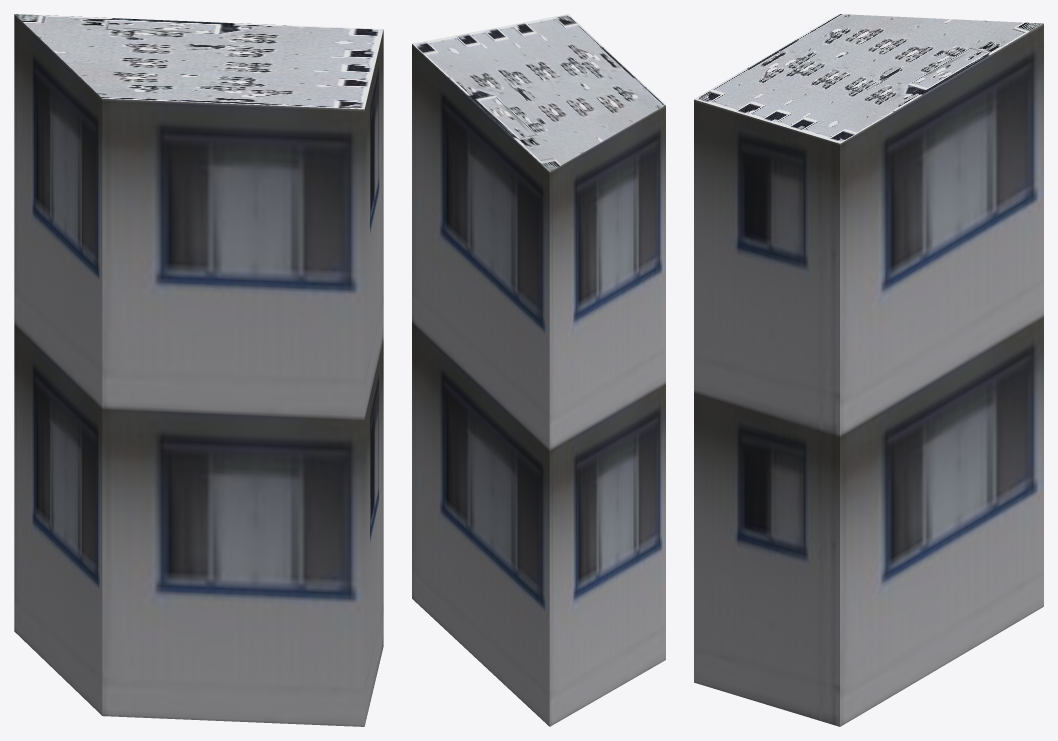
Rendered from ResTex__1930.fbx.
3 renders of one model, left to right at view 1: azimuth 30°, elevation 25°; view 2: azimuth 150°, elevation 25°; view 3: azimuth 270°, elevation 25°, orthographic. The views are drawn at different scales.
Parts seen in each view (by area): view 1: CityEngineMaterial_9_m, CityEngineMaterial_4_m; view 2: CityEngineMaterial_9_m, CityEngineMaterial_4_m; view 3: CityEngineMaterial_9_m, CityEngineMaterial_4_m.
Boxes of the visible parts, x1=… form: CityEngineMaterial_9_m: x1=14, y1=14, x2=383, y2=726; CityEngineMaterial_4_m: x1=15, y1=14, x2=383, y2=109; CityEngineMaterial_9_m: x1=412, y1=44, x2=665, y2=726; CityEngineMaterial_4_m: x1=412, y1=14, x2=665, y2=171; CityEngineMaterial_9_m: x1=694, y1=23, x2=1043, y2=726; CityEngineMaterial_4_m: x1=694, y1=14, x2=1043, y2=143.
Bounding box in the file's own units: 2.87 × 6 × 3.26.
2 materials, 2 textured.
